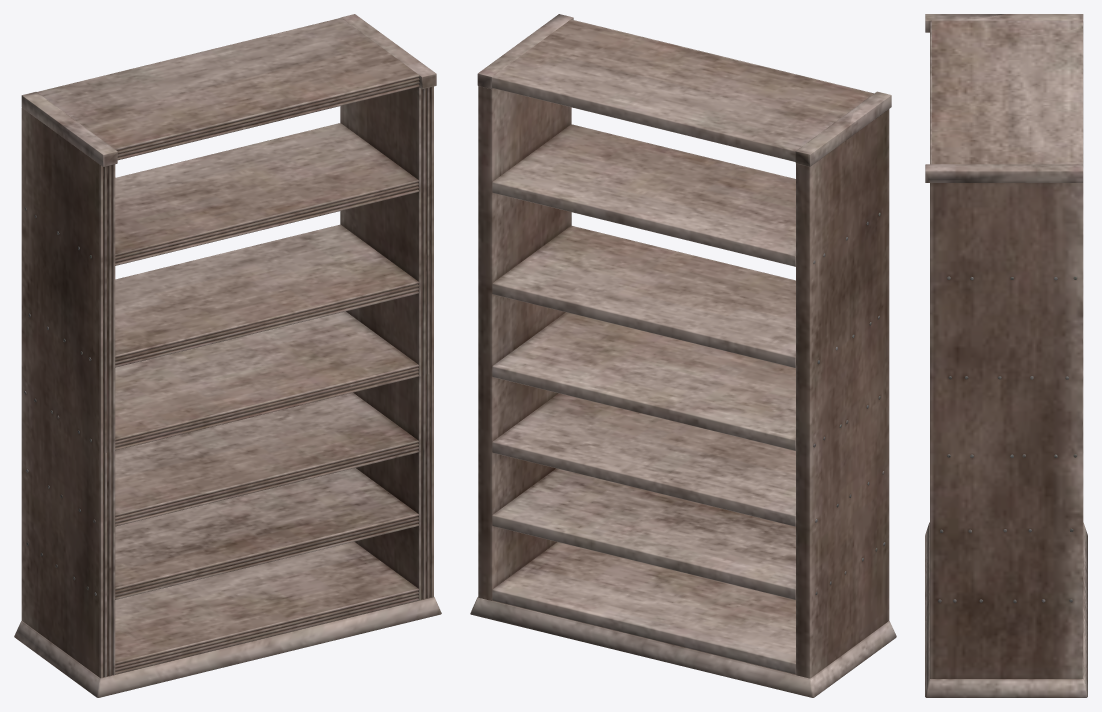
File: wooden_bookshelf_worn.glb
The picture shows the model from 3 angles, left to right: view 1: azimuth 30°, elevation 25°; view 2: azimuth 150°, elevation 25°; view 3: azimuth 270°, elevation 25°; orthographic projection. The views are drawn at different scales.
Parts seen in each view (by area): view 1: wooden_bookshelf_worn; view 2: wooden_bookshelf_worn; view 3: wooden_bookshelf_worn.
Part boxes in pixels (left/top/right/bottom): wooden_bookshelf_worn: left=14, top=14, right=441, bottom=697; wooden_bookshelf_worn: left=470, top=14, right=896, bottom=697; wooden_bookshelf_worn: left=925, top=14, right=1087, bottom=697.
Size of the model in its own units: 1.37 by 2.06 by 0.5814.
Materials: 1 (1 with a texture image).
